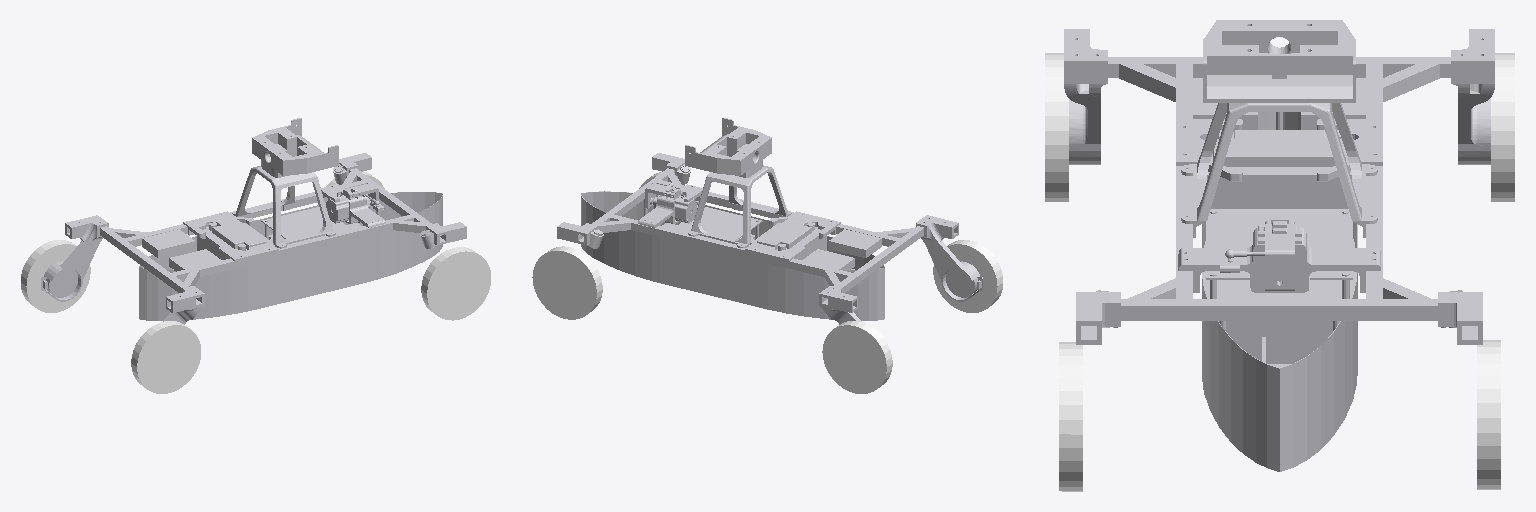
robot.urdf — asc:
<?xml version="1.0" ?>
<!-- =================================================================================== -->
<!-- |    This document was autogenerated by xacro from asc.urdf.xacro                 | -->
<!-- |    EDITING THIS FILE BY HAND IS NOT RECOMMENDED                                 | -->
<!-- =================================================================================== -->
<robot name="asc" xmlns:xacro="http://www.ros.org/wiki/xacro">
  <gazebo>
    <plugin filename="libgazebo_ros_control.so" name="gazebo_ros_control">
      <robotNamespace>/</robotNamespace>
      <!--<robotParam>/robot_description</robotParam> -->
      <robotSimType>gazebo_ros_control/DefaultRobotHWSim</robotSimType>
      <legacyModeNS>false</legacyModeNS>
    </plugin>
  </gazebo>
  <link name="base_link"/>
  <joint name="base_link_to_frame" type="fixed">
    <origin rpy="0 0 0" xyz="0 0 0.7"/>
    <parent link="base_link"/>
    <child link="frame_link"/>
  </joint>
  <link name="frame_link">
    <inertial>
      <origin rpy="0 0 0" xyz="-0.191135074026536 0.00147037627768998 -0.144166350352701"/>
      <mass value="54.6845003989778"/>
      <inertia ixx="0.830289508168532" ixy="-7.44170925374484E-07" ixz="-0.168031775231281" iyy="1.89493024064907" iyz="3.6787232173372E-07" izz="1.80540947379668"/>
    </inertial>
    <visual>
      <origin rpy="0 0 0" xyz="0 0 0"/>
      <geometry>
        <mesh filename="package://asc_urdf/meshes/base_link.STL"/>
      </geometry>
      <material name="">
        <color rgba="0.866666666666667 0.866666666666667 0.890196078431372 1"/>
      </material>
    </visual>
  </link>
  <link name="front_right_steering_link">
    <inertial>
      <origin rpy="0 0 0" xyz="0.0 0.0 0.0"/>
      <mass value="0.38"/>
      <inertia ixx="0.00107634033140466" ixy="1.51573650824965E-05" ixz="-6.94838293881106E-05" iyy="0.000914613440717638" iyz="0.000195407309247701" izz="0.000234021785961031"/>
    </inertial>
    <!--       <visual>
        <origin
          xyz="0 0 0"
          rpy="0 0 0" />
        <geometry>
          <mesh
            filename="package://asc_urdf/meshes/${wheel_prefix}_steering_link.STL"
            />
        </geometry>
        <material
          name="">
          <color
            rgba="0.792156862745098 0.819607843137255 0.933333333333333 1" />
        </material>
      </visual> -->
    <!--       <collision>
        <origin
          xyz="0 0 0"
          rpy="0 0 0" />
        <geometry>
          <mesh
            filename="package://asc_urdf/meshes/${wheel_prefix}_steering_link.STL" />
        </geometry>
      </collision> -->
  </link>
  <link name="front_right_wheel_link">
    <inertial>
      <origin rpy="0 0 0" xyz="-1.78085064877393 -0.596628586488151 1.14528514474377"/>
      <mass value="368.982800568637"/>
      <inertia ixx="133.019788003658" ixy="-43.9800933039268" ixz="50.7007125568813" iyy="317.318424128749" iyz="25.9183879205888" izz="292.361193071731"/>
    </inertial>
    <visual>
      <origin rpy="1.57 0 0" xyz="0 0 0"/>
      <geometry>
        <cylinder length="0.032" radius="0.1"/>
      </geometry>
      <material name="">
        <color rgba="1 1 1 1"/>
      </material>
    </visual>
    <collision>
      <origin rpy="1.57 0 0" xyz="0 0 0"/>
      <geometry>
        <cylinder length="0.032" radius="0.1"/>
      </geometry>
    </collision>
  </link>
  <joint name="front_right_wheel_joint" type="continuous">
    <origin rpy="0.13981 0.28531 1.6105" xyz="0.024 0.023741 -0.18704"/>
    <parent link="front_right_steering_link"/>
    <child link="front_right_wheel_link"/>
    <axis xyz="5.3677E-05 1 0.00055924"/>
  </joint>
  <transmission name="front_right_wheel_joint_tran">
    <type>transmission_interface/SimpleTransmission</type>
    <joint name="front_right_wheel_joint">
      <hardwareInterface>hardware_interface/VelocityJointInterface</hardwareInterface>
    </joint>
    <actuator name="front_right_wheel_joint_motor">
      <hardwareInterface>hardware_interface/VelocityJointInterface</hardwareInterface>
      <mechanicalReduction>1</mechanicalReduction>
    </actuator>
  </transmission>
  <transmission name="front_right_steering_tran">
    <type>transmission_interface/SimpleTransmission</type>
    <joint name="front_right_steering_joint">
      <hardwareInterface>hardware_interface/PositionJointInterface</hardwareInterface>
    </joint>
    <actuator name="front_right_steering_motor">
      <hardwareInterface>hardware_interface/PositionJointInterface</hardwareInterface>
      <mechanicalReduction>1</mechanicalReduction>
    </actuator>
  </transmission>
  <!-- Add specfic parts for forward wheels-->
  <joint name="front_right_steering_joint" type="revolute">
    <origin rpy="0.29046 -0.12882 -1.6092" xyz="0.35635 -0.23074 0.27672"/>
    <parent link="frame_link"/>
    <child link="front_right_steering_link"/>
    <axis xyz="0 0 -1"/>
    <limit effort="0" lower="-0.3" upper="0.3" velocity="0"/>
  </joint>
  <link name="front_left_steering_link">
    <inertial>
      <origin rpy="0 0 0" xyz="0.0 0.0 0.0"/>
      <mass value="0.38"/>
      <inertia ixx="0.00107634033140466" ixy="1.51573650824965E-05" ixz="-6.94838293881106E-05" iyy="0.000914613440717638" iyz="0.000195407309247701" izz="0.000234021785961031"/>
    </inertial>
    <!--       <visual>
        <origin
          xyz="0 0 0"
          rpy="0 0 0" />
        <geometry>
          <mesh
            filename="package://asc_urdf/meshes/${wheel_prefix}_steering_link.STL"
            />
        </geometry>
        <material
          name="">
          <color
            rgba="0.792156862745098 0.819607843137255 0.933333333333333 1" />
        </material>
      </visual> -->
    <!--       <collision>
        <origin
          xyz="0 0 0"
          rpy="0 0 0" />
        <geometry>
          <mesh
            filename="package://asc_urdf/meshes/${wheel_prefix}_steering_link.STL" />
        </geometry>
      </collision> -->
  </link>
  <link name="front_left_wheel_link">
    <inertial>
      <origin rpy="0 0 0" xyz="-1.78085064877393 -0.596628586488151 1.14528514474377"/>
      <mass value="368.982800568637"/>
      <inertia ixx="133.019788003658" ixy="-43.9800933039268" ixz="50.7007125568813" iyy="317.318424128749" iyz="25.9183879205888" izz="292.361193071731"/>
    </inertial>
    <visual>
      <origin rpy="1.57 0 0" xyz="0 0 0"/>
      <geometry>
        <cylinder length="0.032" radius="0.1"/>
      </geometry>
      <material name="">
        <color rgba="1 1 1 1"/>
      </material>
    </visual>
    <collision>
      <origin rpy="1.57 0 0" xyz="0 0 0"/>
      <geometry>
        <cylinder length="0.032" radius="0.1"/>
      </geometry>
    </collision>
  </link>
  <joint name="front_left_wheel_joint" type="continuous">
    <origin rpy="1.5963E-05 0.28907 1.5707" xyz="-0.05 0.023546 -0.17951"/>
    <parent link="front_left_steering_link"/>
    <child link="front_left_wheel_link"/>
    <axis xyz="5.3677E-05 -1 0.00055924"/>
  </joint>
  <transmission name="front_left_wheel_joint_tran">
    <type>transmission_interface/SimpleTransmission</type>
    <joint name="front_left_wheel_joint">
      <hardwareInterface>hardware_interface/VelocityJointInterface</hardwareInterface>
    </joint>
    <actuator name="front_left_wheel_joint_motor">
      <hardwareInterface>hardware_interface/VelocityJointInterface</hardwareInterface>
      <mechanicalReduction>1</mechanicalReduction>
    </actuator>
  </transmission>
  <transmission name="front_left_steering_tran">
    <type>transmission_interface/SimpleTransmission</type>
    <joint name="front_left_steering_joint">
      <hardwareInterface>hardware_interface/PositionJointInterface</hardwareInterface>
    </joint>
    <actuator name="front_left_steering_motor">
      <hardwareInterface>hardware_interface/PositionJointInterface</hardwareInterface>
      <mechanicalReduction>1</mechanicalReduction>
    </actuator>
  </transmission>
  <!-- Add specfic parts for forward wheels-->
  <joint name="front_left_steering_joint" type="revolute">
    <origin rpy="0.28907 0.00024223 -1.5707" xyz="0.35635 0.22966 0.27672"/>
    <parent link="frame_link"/>
    <child link="front_left_steering_link"/>
    <axis xyz="0 0 -1"/>
    <limit effort="0" lower="-0.3" upper="0.3" velocity="0"/>
  </joint>
  <link name="rear_right_steering_link">
    <inertial>
      <origin rpy="0 0 0" xyz="0.0 0.0 0.0"/>
      <mass value="0.38"/>
      <inertia ixx="0.00107634033140466" ixy="1.51573650824965E-05" ixz="-6.94838293881106E-05" iyy="0.000914613440717638" iyz="0.000195407309247701" izz="0.000234021785961031"/>
    </inertial>
    <!--       <visual>
        <origin
          xyz="0 0 0"
          rpy="0 0 0" />
        <geometry>
          <mesh
            filename="package://asc_urdf/meshes/${wheel_prefix}_steering_link.STL"
            />
        </geometry>
        <material
          name="">
          <color
            rgba="0.792156862745098 0.819607843137255 0.933333333333333 1" />
        </material>
      </visual> -->
    <!--       <collision>
        <origin
          xyz="0 0 0"
          rpy="0 0 0" />
        <geometry>
          <mesh
            filename="package://asc_urdf/meshes/${wheel_prefix}_steering_link.STL" />
        </geometry>
      </collision> -->
  </link>
  <link name="rear_right_wheel_link">
    <inertial>
      <origin rpy="0 0 0" xyz="-1.78085064877393 -0.596628586488151 1.14528514474377"/>
      <mass value="368.982800568637"/>
      <inertia ixx="133.019788003658" ixy="-43.9800933039268" ixz="50.7007125568813" iyy="317.318424128749" iyz="25.9183879205888" izz="292.361193071731"/>
    </inertial>
    <visual>
      <origin rpy="1.57 0 0" xyz="0 0 0"/>
      <geometry>
        <cylinder length="0.032" radius="0.1"/>
      </geometry>
      <material name="">
        <color rgba="1 1 1 1"/>
      </material>
    </visual>
    <collision>
      <origin rpy="1.57 0 0" xyz="0 0 0"/>
      <geometry>
        <cylinder length="0.032" radius="0.1"/>
      </geometry>
    </collision>
  </link>
  <joint name="rear_right_wheel_joint" type="continuous">
    <origin rpy="0 0 0" xyz="0.0 0.0 -0.16"/>
    <parent link="rear_right_steering_link"/>
    <child link="rear_right_wheel_link"/>
    <axis xyz="0 -1 0"/>
  </joint>
  <transmission name="rear_right_wheel_joint_tran">
    <type>transmission_interface/SimpleTransmission</type>
    <joint name="rear_right_wheel_joint">
      <hardwareInterface>hardware_interface/VelocityJointInterface</hardwareInterface>
    </joint>
    <actuator name="rear_right_wheel_joint_motor">
      <hardwareInterface>hardware_interface/VelocityJointInterface</hardwareInterface>
      <mechanicalReduction>1</mechanicalReduction>
    </actuator>
  </transmission>
  <transmission name="rear_right_steering_tran">
    <type>transmission_interface/SimpleTransmission</type>
    <joint name="rear_right_steering_joint">
      <hardwareInterface>hardware_interface/PositionJointInterface</hardwareInterface>
    </joint>
    <actuator name="rear_right_steering_motor">
      <hardwareInterface>hardware_interface/PositionJointInterface</hardwareInterface>
      <mechanicalReduction>1</mechanicalReduction>
    </actuator>
  </transmission>
  <!-- Add specfic parts for forward wheels-->
  <joint name="rear_right_steering_joint" type="revolute">
    <origin rpy="0.0 0.0 0.0" xyz="-0.48012 -0.29752 0.27"/>
    <parent link="frame_link"/>
    <child link="rear_right_steering_link"/>
    <axis xyz="0 0 -1"/>
    <limit effort="0" lower="0.0" upper="0.0" velocity="0"/>
  </joint>
  <link name="rear_left_steering_link">
    <inertial>
      <origin rpy="0 0 0" xyz="0.0 0.0 0.0"/>
      <mass value="0.38"/>
      <inertia ixx="0.00107634033140466" ixy="1.51573650824965E-05" ixz="-6.94838293881106E-05" iyy="0.000914613440717638" iyz="0.000195407309247701" izz="0.000234021785961031"/>
    </inertial>
    <!--       <visual>
        <origin
          xyz="0 0 0"
          rpy="0 0 0" />
        <geometry>
          <mesh
            filename="package://asc_urdf/meshes/${wheel_prefix}_steering_link.STL"
            />
        </geometry>
        <material
          name="">
          <color
            rgba="0.792156862745098 0.819607843137255 0.933333333333333 1" />
        </material>
      </visual> -->
    <!--       <collision>
        <origin
          xyz="0 0 0"
          rpy="0 0 0" />
        <geometry>
          <mesh
            filename="package://asc_urdf/meshes/${wheel_prefix}_steering_link.STL" />
        </geometry>
      </collision> -->
  </link>
  <link name="rear_left_wheel_link">
    <inertial>
      <origin rpy="0 0 0" xyz="-1.78085064877393 -0.596628586488151 1.14528514474377"/>
      <mass value="368.982800568637"/>
      <inertia ixx="133.019788003658" ixy="-43.9800933039268" ixz="50.7007125568813" iyy="317.318424128749" iyz="25.9183879205888" izz="292.361193071731"/>
    </inertial>
    <visual>
      <origin rpy="1.57 0 0" xyz="0 0 0"/>
      <geometry>
        <cylinder length="0.032" radius="0.1"/>
      </geometry>
      <material name="">
        <color rgba="1 1 1 1"/>
      </material>
    </visual>
    <collision>
      <origin rpy="1.57 0 0" xyz="0 0 0"/>
      <geometry>
        <cylinder length="0.032" radius="0.1"/>
      </geometry>
    </collision>
  </link>
  <joint name="rear_left_wheel_joint" type="continuous">
    <origin rpy="0 0 0" xyz="0.0 0.0 -0.16"/>
    <parent link="rear_left_steering_link"/>
    <child link="rear_left_wheel_link"/>
    <axis xyz="0 1 0"/>
  </joint>
  <transmission name="rear_left_wheel_joint_tran">
    <type>transmission_interface/SimpleTransmission</type>
    <joint name="rear_left_wheel_joint">
      <hardwareInterface>hardware_interface/VelocityJointInterface</hardwareInterface>
    </joint>
    <actuator name="rear_left_wheel_joint_motor">
      <hardwareInterface>hardware_interface/VelocityJointInterface</hardwareInterface>
      <mechanicalReduction>1</mechanicalReduction>
    </actuator>
  </transmission>
  <transmission name="rear_left_steering_tran">
    <type>transmission_interface/SimpleTransmission</type>
    <joint name="rear_left_steering_joint">
      <hardwareInterface>hardware_interface/PositionJointInterface</hardwareInterface>
    </joint>
    <actuator name="rear_left_steering_motor">
      <hardwareInterface>hardware_interface/PositionJointInterface</hardwareInterface>
      <mechanicalReduction>1</mechanicalReduction>
    </actuator>
  </transmission>
  <!-- Add specfic parts for forward wheels-->
  <joint name="rear_left_steering_joint" type="revolute">
    <origin rpy="0.0 0.0 0.0" xyz="-0.48012 0.29752 0.27"/>
    <parent link="frame_link"/>
    <child link="rear_left_steering_link"/>
    <axis xyz="0 0 -1"/>
    <limit effort="0" lower="0.0" upper="0.0" velocity="0"/>
  </joint>
</robot>

--- Facts derived from the render (not from the file) ---
The picture shows the robot from 3 angles, left to right: view 1: azimuth 30°, elevation 25°; view 2: azimuth 150°, elevation 25°; view 3: azimuth 270°, elevation 25°; orthographic projection.
Model asc with 10 links and 9 joints (4 revolute, 4 continuous, 1 fixed), rooted at base_link, posed all joints at 0.
Visible links, largest first — view 1: frame_link, front_right_wheel_link, rear_right_wheel_link, rear_left_wheel_link; view 2: frame_link, front_left_wheel_link, rear_left_wheel_link, rear_right_wheel_link; view 3: frame_link, front_right_wheel_link, front_left_wheel_link, rear_left_wheel_link, rear_right_wheel_link.
Boxes of the visible links, x1,y1,x2,y2 form: frame_link: (41,118,466,324); front_right_wheel_link: (421,247,490,320); rear_right_wheel_link: (131,321,200,393); rear_left_wheel_link: (21,240,90,312); frame_link: (557,118,982,324); front_left_wheel_link: (532,246,602,319); rear_left_wheel_link: (822,321,892,393); rear_right_wheel_link: (933,240,1002,312); frame_link: (1064,20,1494,471); front_right_wheel_link: (1059,342,1082,491); front_left_wheel_link: (1477,340,1500,489); rear_left_wheel_link: (1491,53,1514,201); rear_right_wheel_link: (1045,53,1068,201).
Bounding box of the posed robot: 1.13 × 0.6272 × 0.5003 m (x, y, z).
1 mesh visuals loaded from 1 distinct referenced files (1 binary STL).